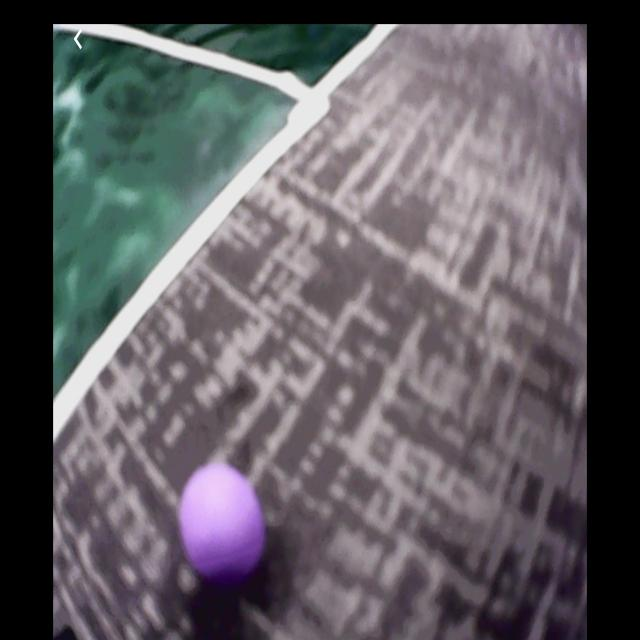ball: (182, 465, 267, 583)
